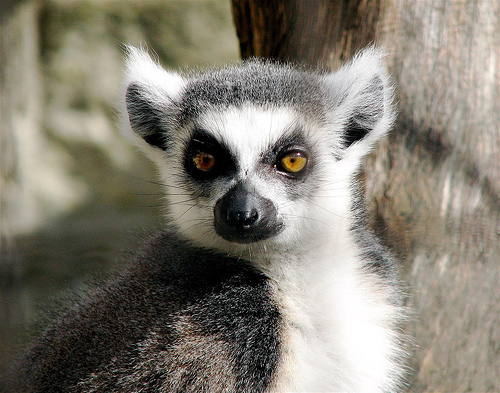cat: (1, 41, 409, 391)
